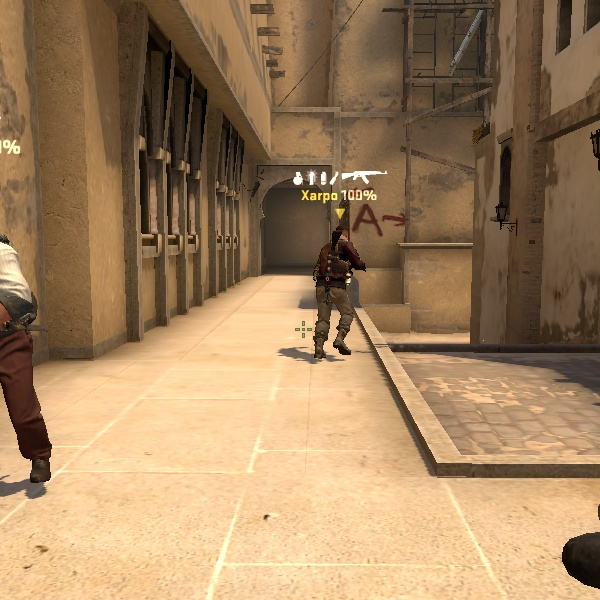t_body: (300, 223, 381, 360)
t_head: (330, 221, 356, 248)
